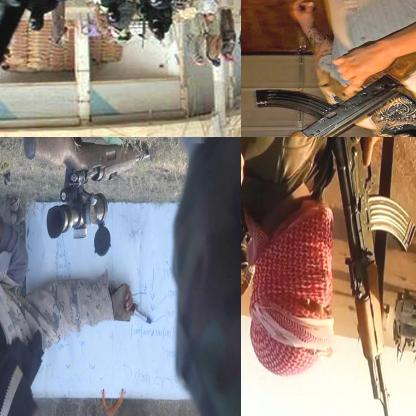rifle: (330, 137, 415, 415), (241, 61, 416, 136), (23, 137, 153, 187)
